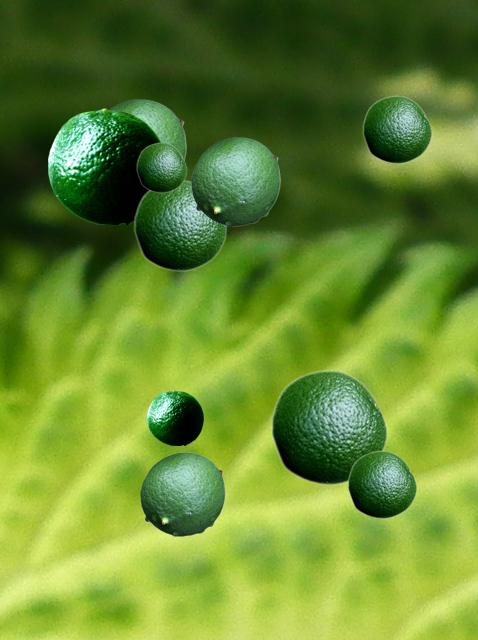calamansi: (270, 369, 387, 485), (48, 108, 161, 223), (133, 180, 226, 271), (191, 137, 279, 225), (140, 452, 224, 535), (362, 95, 431, 163), (347, 450, 416, 518), (109, 99, 185, 159), (147, 390, 202, 444), (136, 142, 186, 192)
